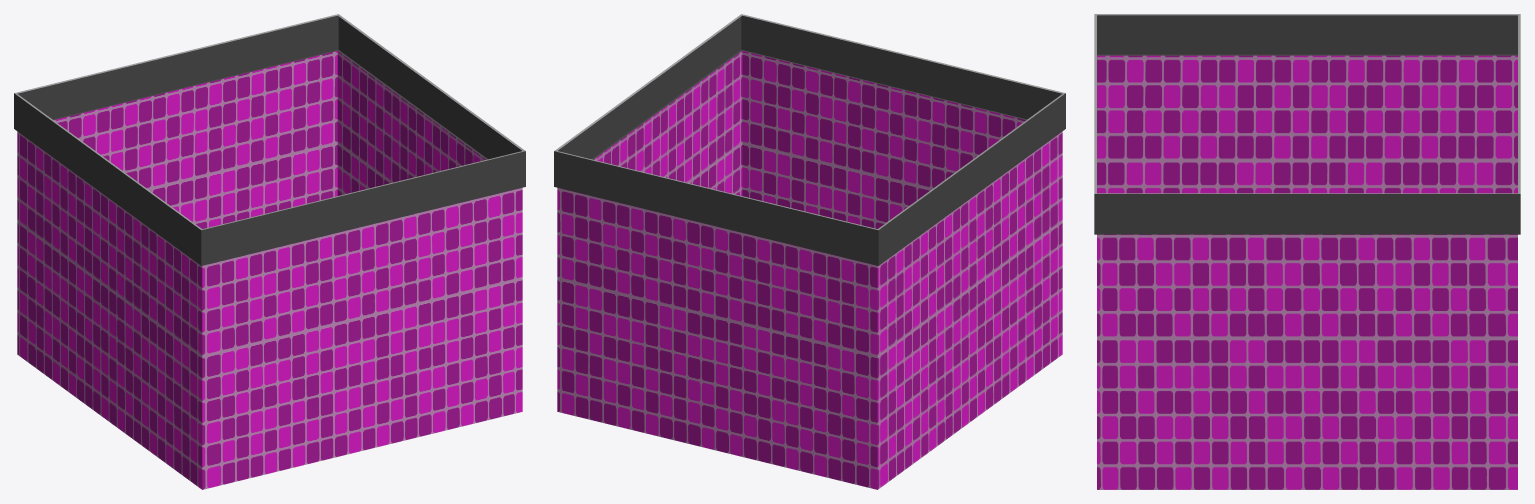
The model's file is Building Bottom.fbx.
The picture shows the model from 3 angles, left to right: view 1: azimuth 30°, elevation 25°; view 2: azimuth 150°, elevation 25°; view 3: azimuth 270°, elevation 25°; orthographic projection. The views are drawn at different scales.
Parts seen in each view (by area): view 1: polySurface68; view 2: polySurface68; view 3: polySurface68.
Part boxes in pixels (x1,y1,x2,y2): polySurface68: (14,14,525,489); polySurface68: (554,14,1065,489); polySurface68: (1094,14,1520,489).
Bounding box in the file's own units: 13.04 × 10.02 × 13.04.
3 materials, 1 textured.
